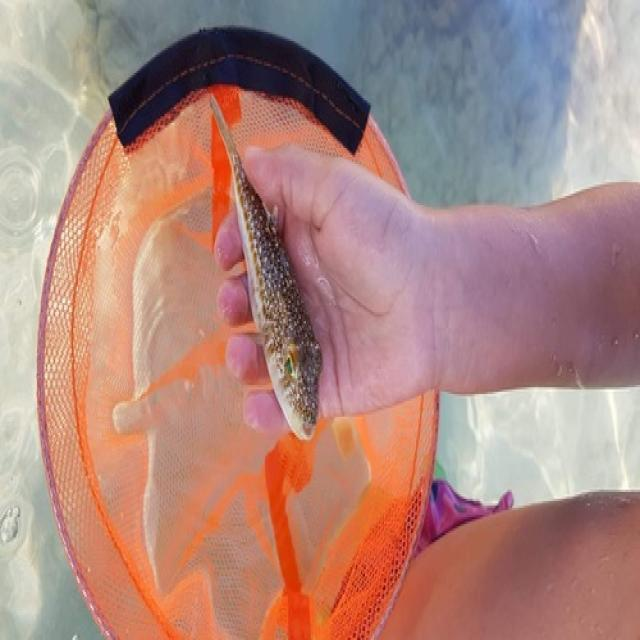Balik: (210, 96, 321, 439)
